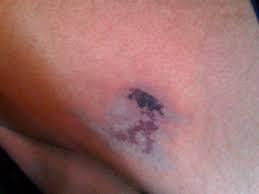Spider: (88, 76, 194, 176)
